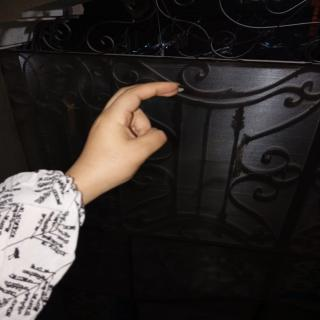ZAY: (73, 75, 190, 193)
